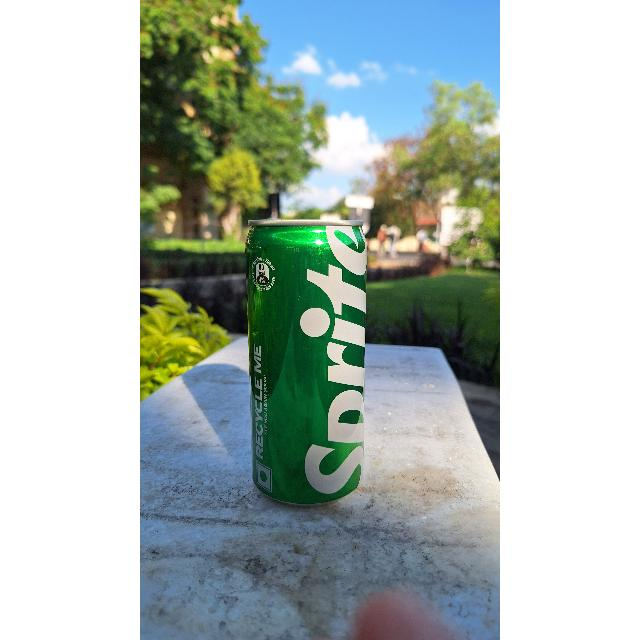Sprite: (248, 219, 370, 507)
